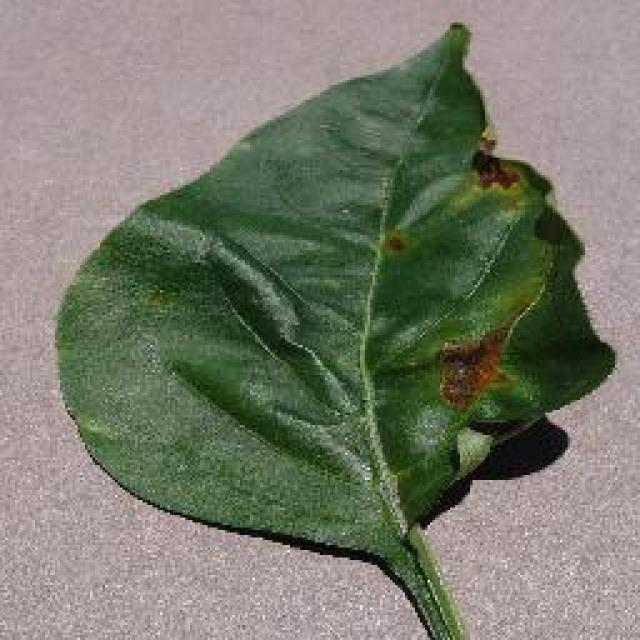Chilli_Bacterial_Spot: (50, 17, 618, 565), (368, 128, 560, 430), (432, 327, 510, 415), (468, 148, 520, 192), (138, 280, 180, 318), (378, 228, 410, 260), (472, 120, 500, 155)
